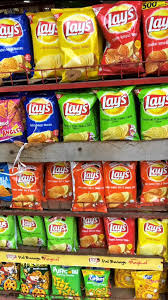lays-large: (94, 7, 145, 73), (60, 9, 98, 79), (30, 13, 62, 83)
lays-med: (97, 92, 137, 143), (60, 96, 97, 143), (23, 99, 59, 145)
lays-small: (9, 168, 42, 212), (43, 216, 75, 254), (18, 219, 43, 248)
